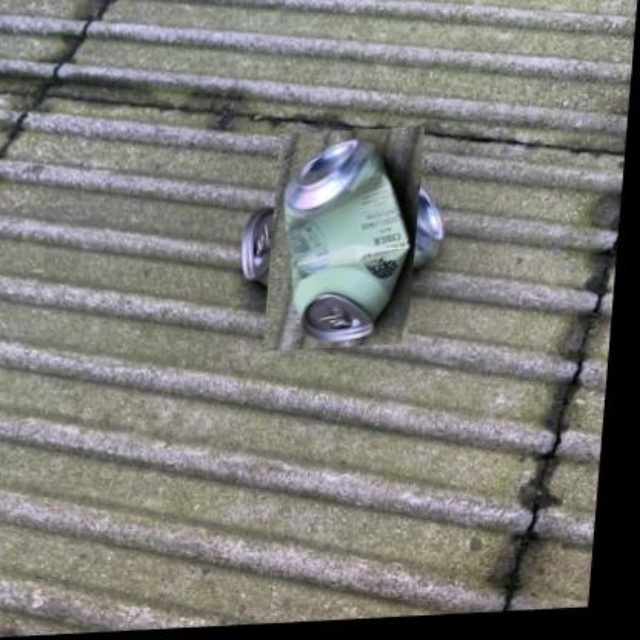trash: (285, 138, 409, 342)
